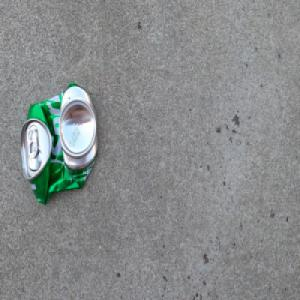SodaCan: (19, 80, 99, 207)
